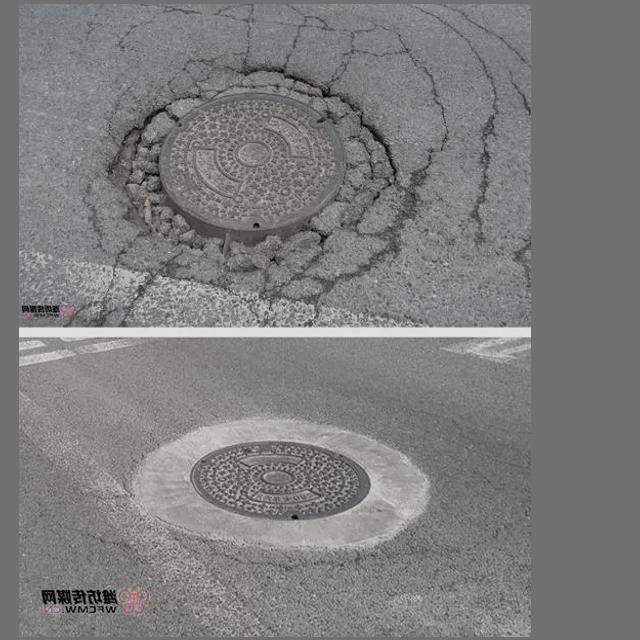circle: (84, 64, 415, 287)
